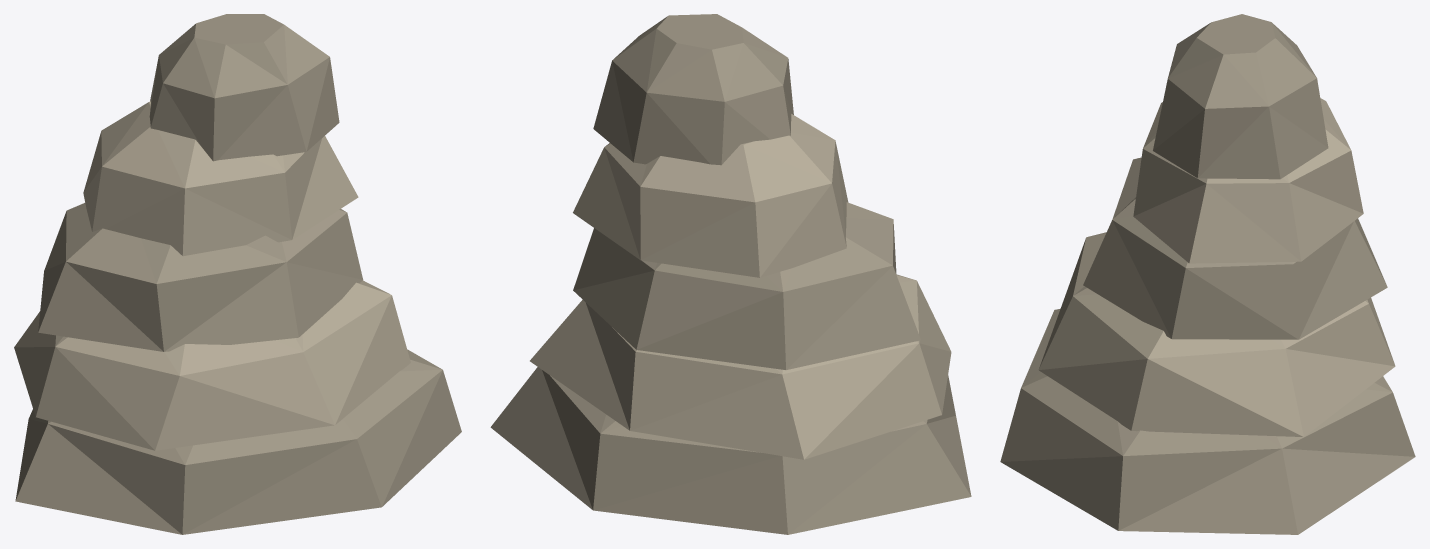
Rendered from Decor_Cairn.fbx.
3 renders of one model, left to right at view 1: azimuth 30°, elevation 25°; view 2: azimuth 150°, elevation 25°; view 3: azimuth 270°, elevation 25°, orthographic. The views are drawn at different scales.
Visible parts, largest first — view 1: Decor_Cairn; view 2: Decor_Cairn; view 3: Decor_Cairn.
Part boxes in pixels (x1,y1,x2,y2): Decor_Cairn: [14, 14, 461, 534]; Decor_Cairn: [490, 14, 971, 534]; Decor_Cairn: [1000, 14, 1415, 534].
Size of the model in its own units: 1.26 by 1.17 by 1.07.
